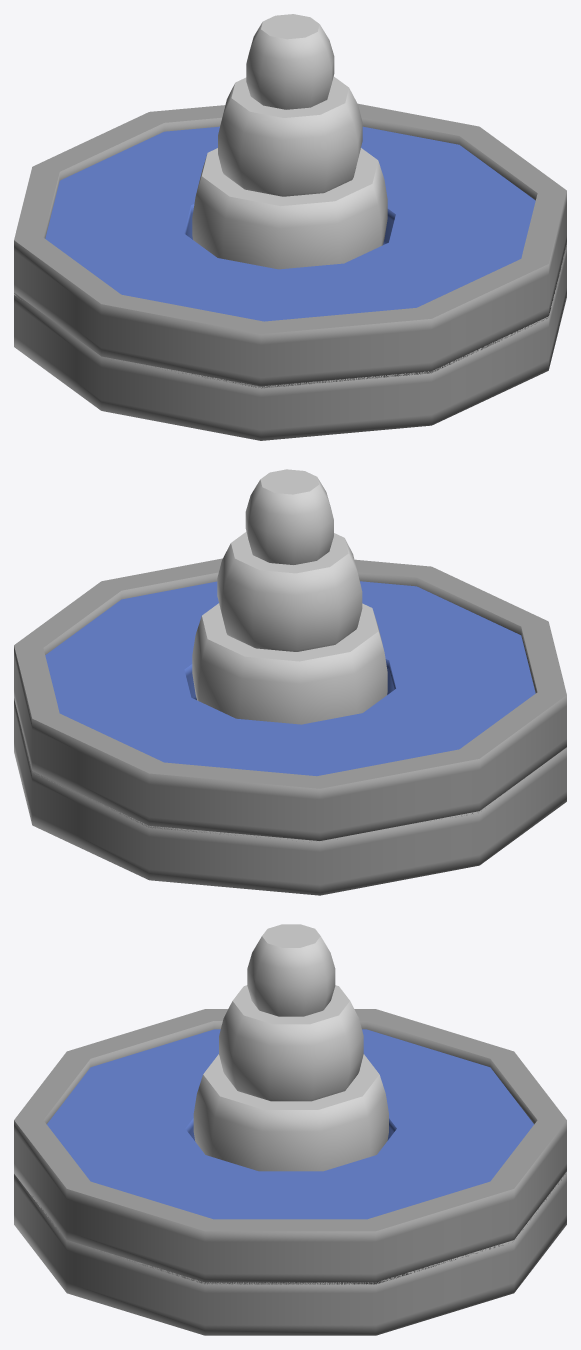
File: brunnenII.dae
3 renders of one model, top to bottom at view 1: azimuth 30°, elevation 25°; view 2: azimuth 150°, elevation 25°; view 3: azimuth 270°, elevation 25°, orthographic. The views are drawn at different scales.
Parts seen in each view (by area): view 1: Tube005, Wasser, Tube001, Tube002, Tube003, Tube004; view 2: Tube005, Wasser, Tube001, Tube002, Tube003, Tube004; view 3: Tube005, Wasser, Tube001, Tube002, Tube003, Tube004.
Boxes of the visible parts, x1,y1,x2,y2 form: Tube005: [14, 103, 566, 388]; Wasser: [45, 126, 535, 321]; Tube001: [14, 245, 566, 440]; Tube002: [192, 148, 387, 269]; Tube003: [218, 76, 362, 196]; Tube004: [246, 14, 334, 109]; Tube005: [14, 558, 566, 840]; Wasser: [45, 581, 535, 776]; Tube001: [14, 698, 566, 895]; Tube002: [192, 603, 387, 724]; Tube003: [217, 531, 362, 651]; Tube004: [245, 469, 333, 564]; Tube005: [14, 1009, 566, 1284]; Wasser: [47, 1029, 533, 1219]; Tube001: [14, 1172, 566, 1335]; Tube002: [193, 1054, 388, 1171]; Tube003: [219, 985, 363, 1101]; Tube004: [247, 924, 335, 1016].
Size of the model in its own units: 2.27 by 2.39 by 1.38.
